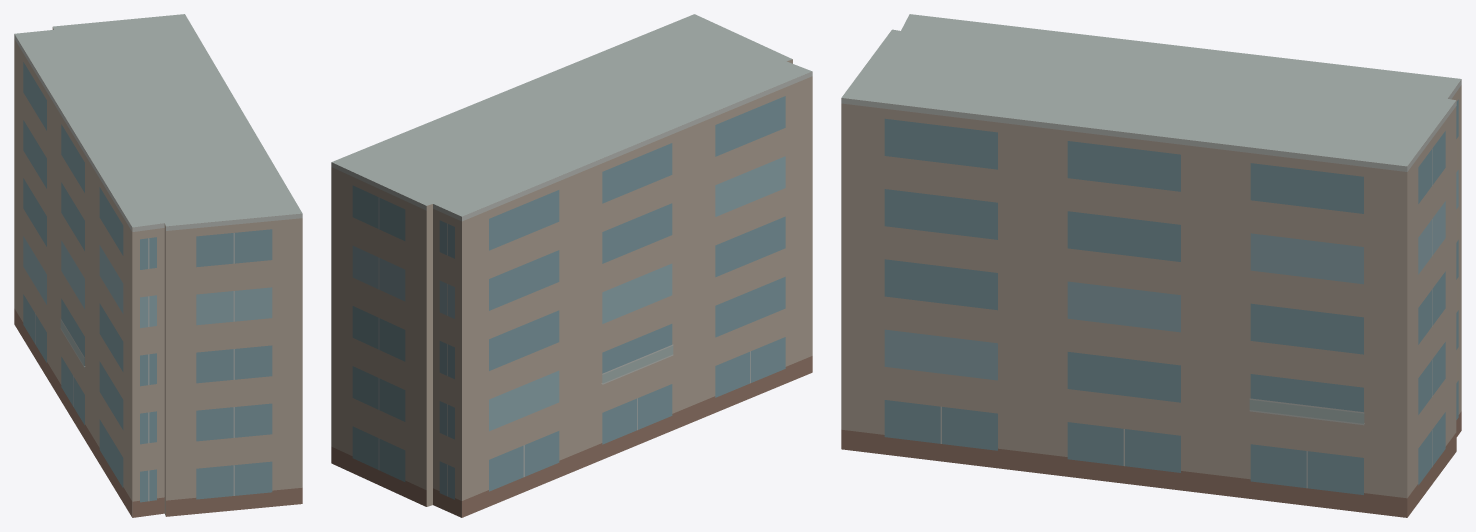
The model's file is survey-upis-33017209.glb.
3 renders of one model, left to right at view 1: azimuth 30°, elevation 25°; view 2: azimuth 150°, elevation 25°; view 3: azimuth 270°, elevation 25°, orthographic. The views are drawn at different scales.
Parts seen in each view (by area): view 1: survey-upis-33017209.tmp; view 2: survey-upis-33017209.tmp; view 3: survey-upis-33017209.tmp.
Boxes of the visible parts, box(x1,y1,x2,y2) form: survey-upis-33017209.tmp: box(14, 14, 302, 517); survey-upis-33017209.tmp: box(331, 14, 812, 517); survey-upis-33017209.tmp: box(841, 14, 1461, 517).
Bounding box in the file's own units: 14.2 × 15.25 × 24.41.
